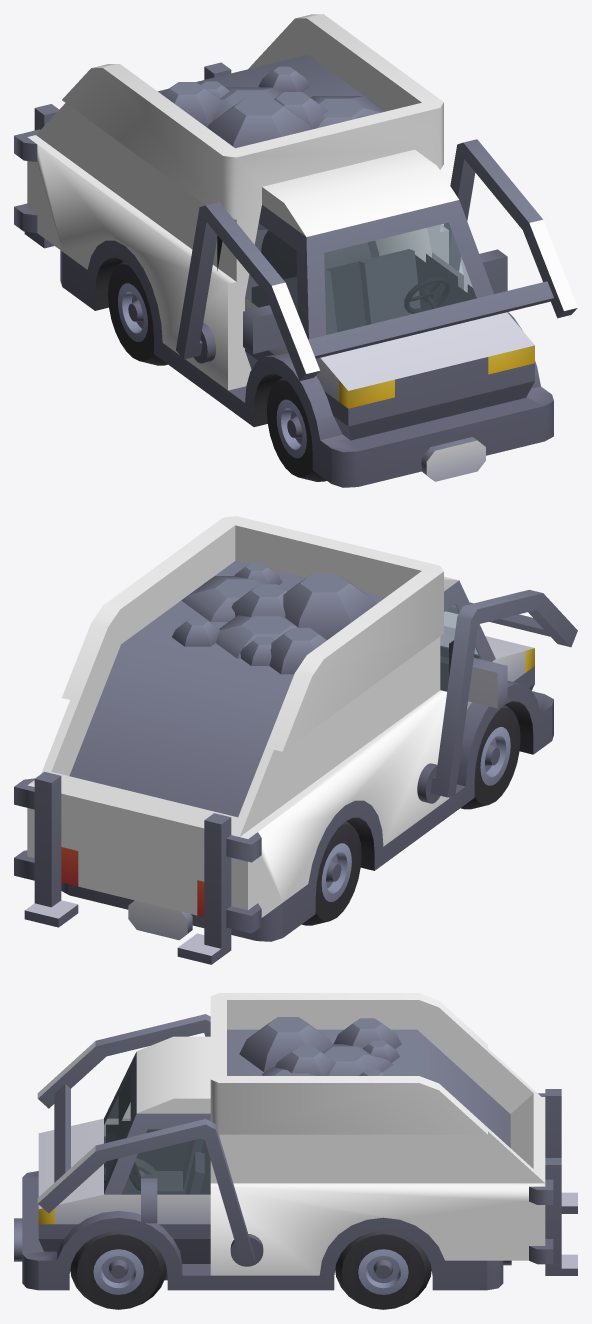
Rendered from garbage.glb.
3 renders of one model, top to bottom at view 1: azimuth 30°, elevation 25°; view 2: azimuth 150°, elevation 25°; view 3: azimuth 270°, elevation 25°, orthographic. The views are drawn at different scales.
Visible parts, largest first — view 1: body, paint, glass, interior, wheel-back-right, wheel-front-right, door-front-right-panel, door-front-right-glass, wheel-back-left, door-front-left-glass, steering-wheel, door-front-right-paint; view 2: body, paint, wheel-front-right, wheel-back-right, door-front-right-panel, door-front-right-glass; view 3: paint, body, wheel-front-left, wheel-back-left, door-front-left-panel, door-front-left-glass, interior, glass, door-front-left-paint, door-front-right-trim.
Boxes of the visible parts, bbox=[...] form: body: bbox=[14, 54, 577, 487]; paint: bbox=[27, 14, 577, 390]; glass: bbox=[324, 222, 476, 334]; interior: bbox=[251, 249, 474, 334]; wheel-back-right: bbox=[108, 261, 167, 365]; wheel-front-right: bbox=[266, 377, 326, 481]; door-front-right-panel: bbox=[197, 233, 307, 411]; door-front-right-glass: bbox=[245, 223, 297, 312]; wheel-back-left: bbox=[261, 230, 345, 279]; door-front-left-glass: bbox=[427, 223, 463, 274]; steering-wheel: bbox=[404, 277, 449, 313]; door-front-right-paint: bbox=[223, 252, 236, 390]; body: bbox=[14, 561, 577, 964]; paint: bbox=[27, 516, 458, 917]; wheel-front-right: bbox=[461, 704, 520, 809]; wheel-back-right: bbox=[302, 821, 361, 925]; door-front-right-panel: bbox=[443, 596, 529, 807]; door-front-right-glass: bbox=[440, 604, 481, 691]; paint: bbox=[37, 993, 545, 1275]; body: bbox=[14, 1014, 577, 1290]; wheel-front-left: bbox=[70, 1231, 166, 1309]; wheel-back-left: bbox=[335, 1231, 431, 1309]; door-front-left-panel: bbox=[118, 1129, 219, 1279]; door-front-left-glass: bbox=[122, 1129, 210, 1194]; interior: bbox=[106, 1124, 210, 1280]; glass: bbox=[104, 1071, 130, 1185]; door-front-left-paint: bbox=[210, 1160, 219, 1275]; door-front-right-trim: bbox=[118, 1071, 210, 1194].
Bounding box in the file's own units: 2.72 × 2.72 × 5.86.
4 materials, 1 textured.
